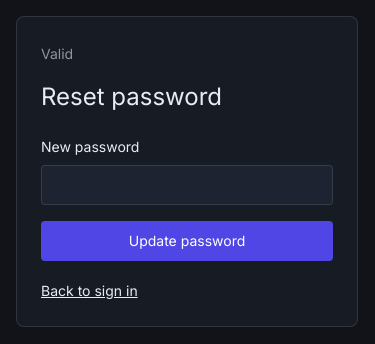
Test: Password recovery › removes the reset token from the address bar and renders on a narrow dark screen
Type "new-password" into the password field labelled "New password". click: (187, 185)
box: [41,165,333,205]
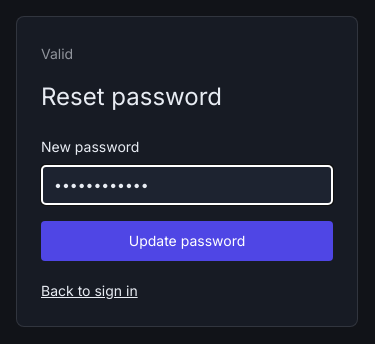
Click the button "Update password". click: (187, 241)
box: [41,221,333,261]
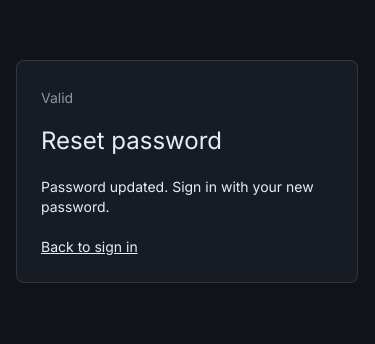
Expected: the message "Password updated. Sign in with your new password." is shown, [41,176,333,216]
